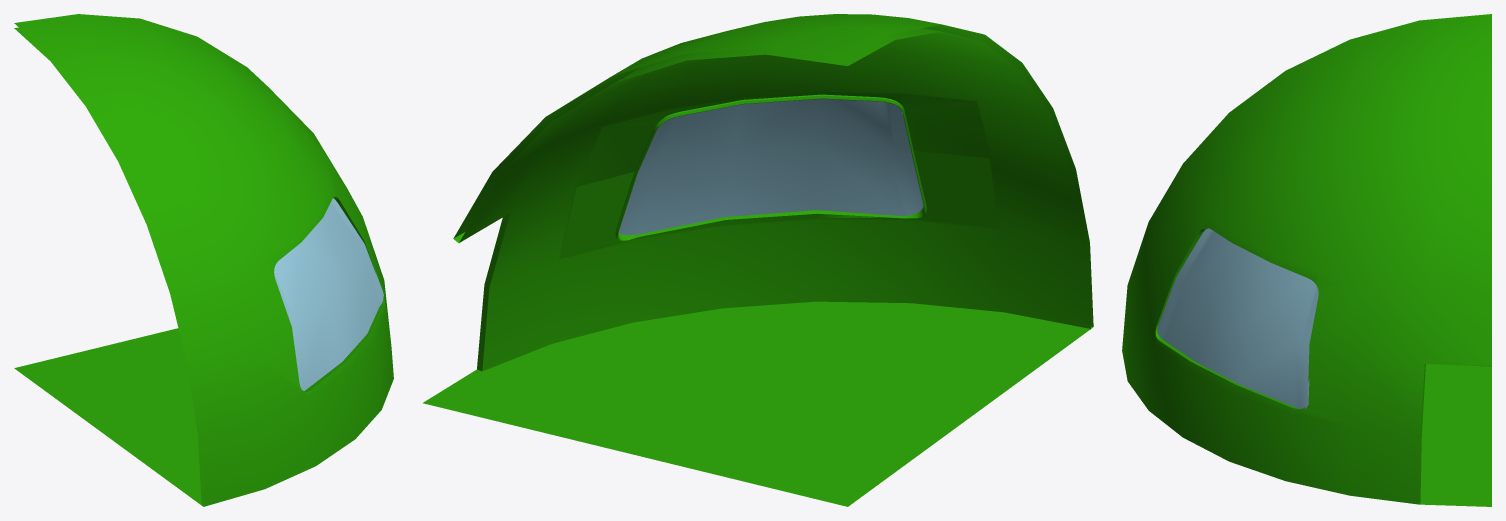
File: Module_Vitre_001.fbx
3 views of the same model, side by side, from view 1: azimuth 30°, elevation 25°; view 2: azimuth 150°, elevation 25°; view 3: azimuth 270°, elevation 25° (orthographic). The views are drawn at different scales.
Parts seen in each view (by area): view 1: Object112; view 2: Object112; view 3: Object112.
Boxes of the visible parts, x1,y1,x2,y2 form: Object112: [14, 14, 393, 506]; Object112: [422, 14, 1093, 506]; Object112: [1122, 14, 1491, 506].
Bounding box in the file's own units: 800 × 805 × 800.
